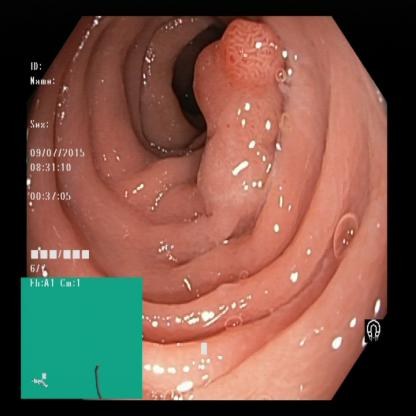Labels: (28, 56, 100, 278), (22, 277, 140, 398), (363, 313, 385, 351)
Polyps: (189, 36, 288, 236)
